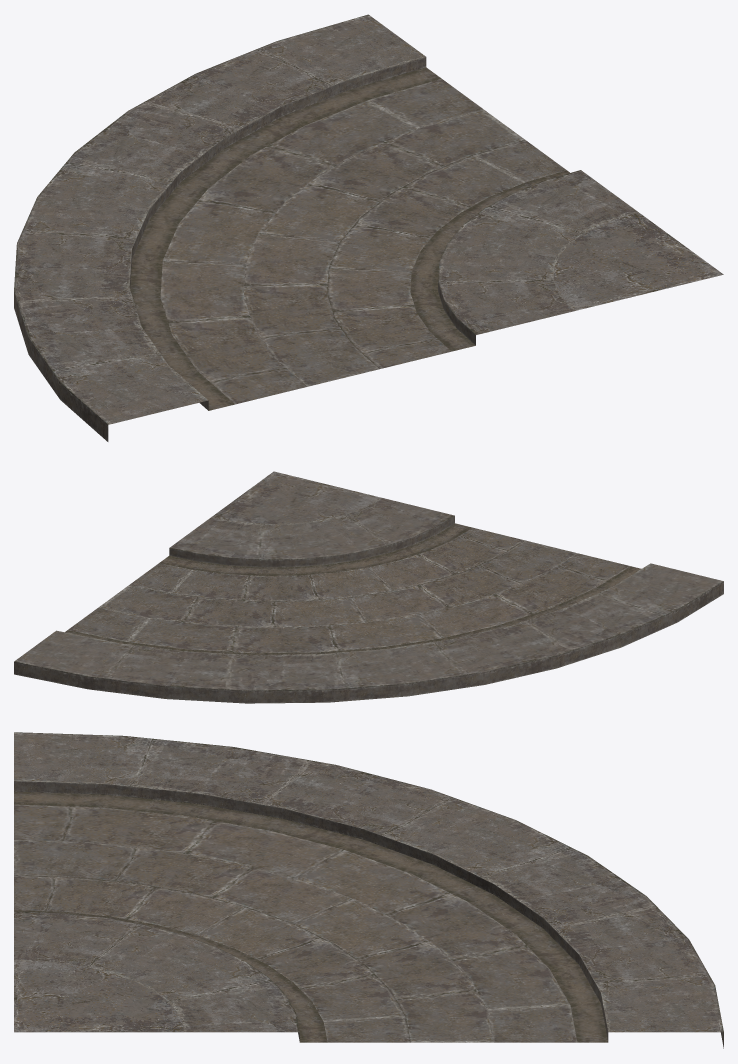
File: Roundabout_closed.fbx
The picture shows the model from 3 angles, top to bottom: view 1: azimuth 30°, elevation 25°; view 2: azimuth 150°, elevation 25°; view 3: azimuth 270°, elevation 25°; orthographic projection. The views are drawn at different scales.
Visible parts, largest first — view 1: Trim_Roundabout_closed; view 2: Trim_Roundabout_closed; view 3: Trim_Roundabout_closed.
Boxes of the visible parts, <box> form: Trim_Roundabout_closed: <box>14,14,723,441</box>; Trim_Roundabout_closed: <box>14,471,723,703</box>; Trim_Roundabout_closed: <box>14,732,723,1048</box>.
Size of the model in its own units: 918 by 25 by 918.
